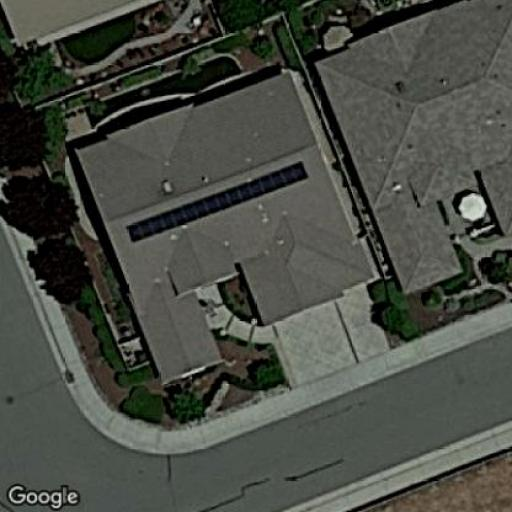solar-panel: (124, 161, 309, 244)
